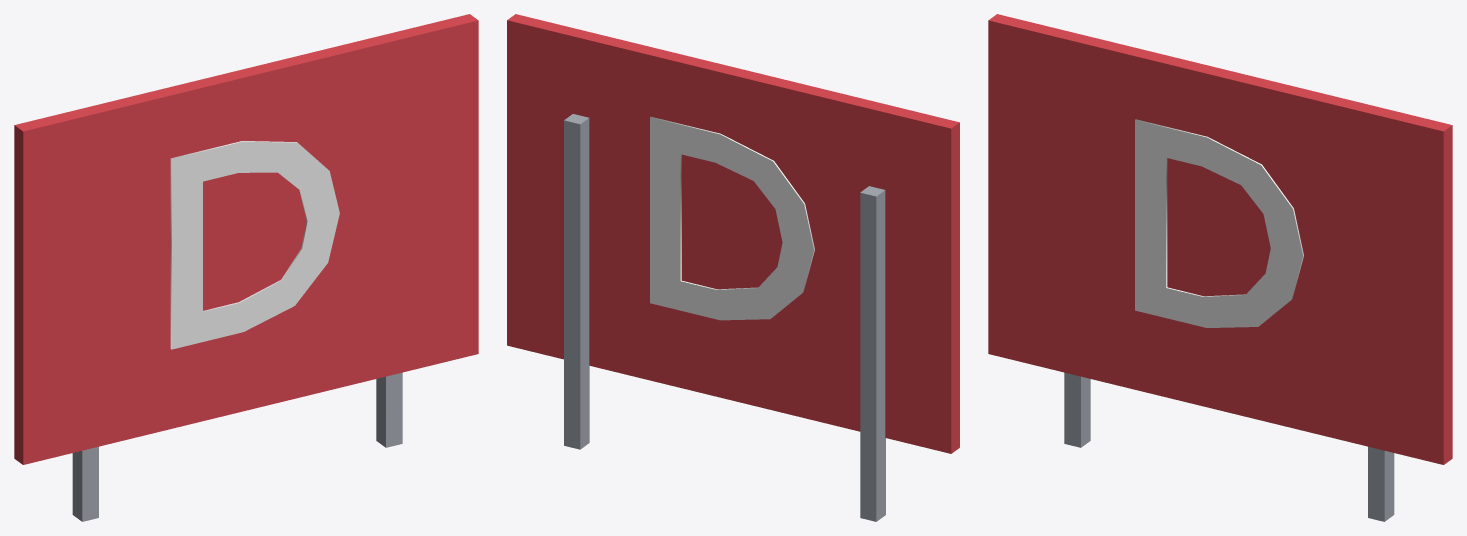
File: setor_D.glb
3 views of the same model, side by side, from view 1: azimuth 30°, elevation 25°; view 2: azimuth 150°, elevation 25°; view 3: azimuth 330°, elevation 25° (orthographic). The views are drawn at different scales.
Parts seen in each view (by area): view 1: vermelho, t, aco; view 2: vermelho, aco, t.001; view 3: vermelho, t, aco.
Part boxes in pixels (left/top/right/bottom): vermelho: left=14, top=14, right=478, bottom=464; t: left=170, top=141, right=339, bottom=349; aco: left=72, top=372, right=402, bottom=521; vermelho: left=507, top=14, right=959, bottom=453; aco: left=564, top=114, right=885, bottom=521; t.001: left=650, top=116, right=814, bottom=320; vermelho: left=988, top=14, right=1452, bottom=464; t: left=1135, top=119, right=1303, bottom=327; aco: left=1064, top=372, right=1394, bottom=521.
Bounding box in the file's own units: 6 × 5.2 × 0.432.
